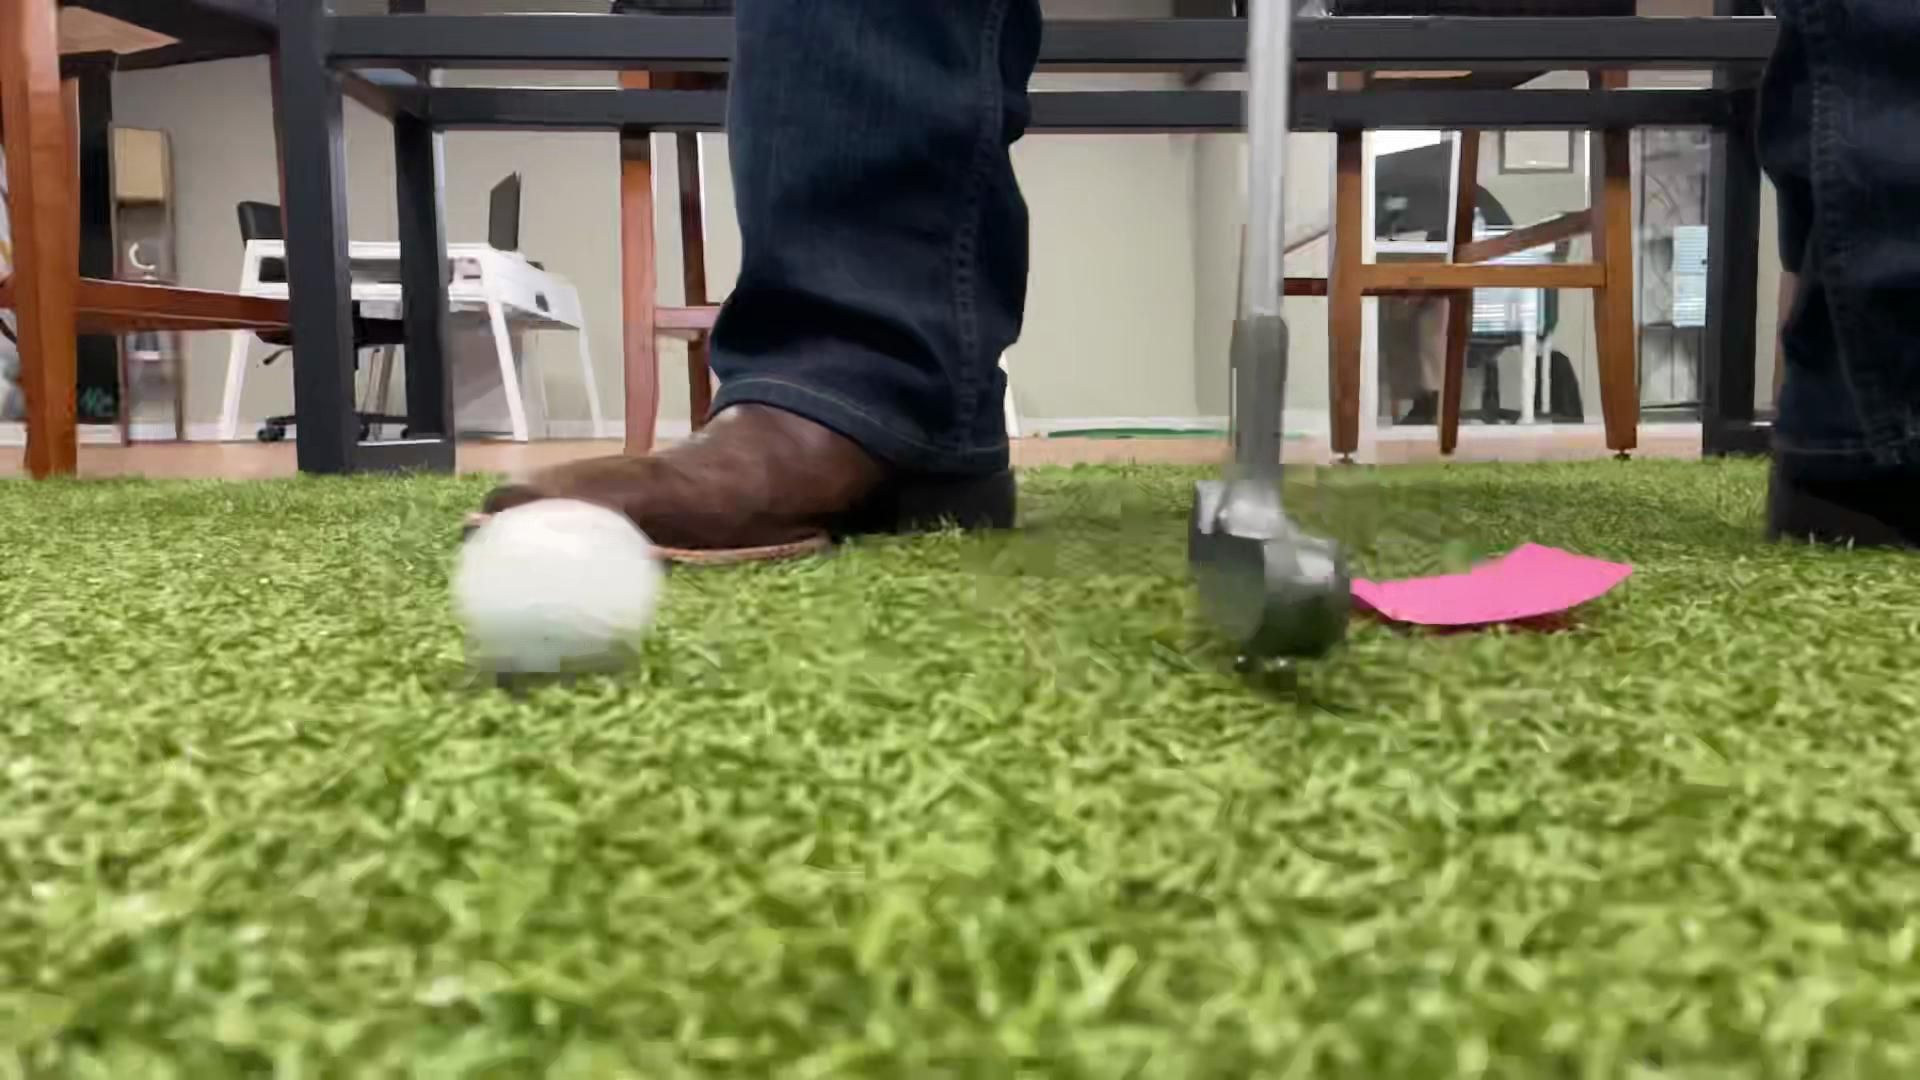golfball: (450, 498, 662, 678)
